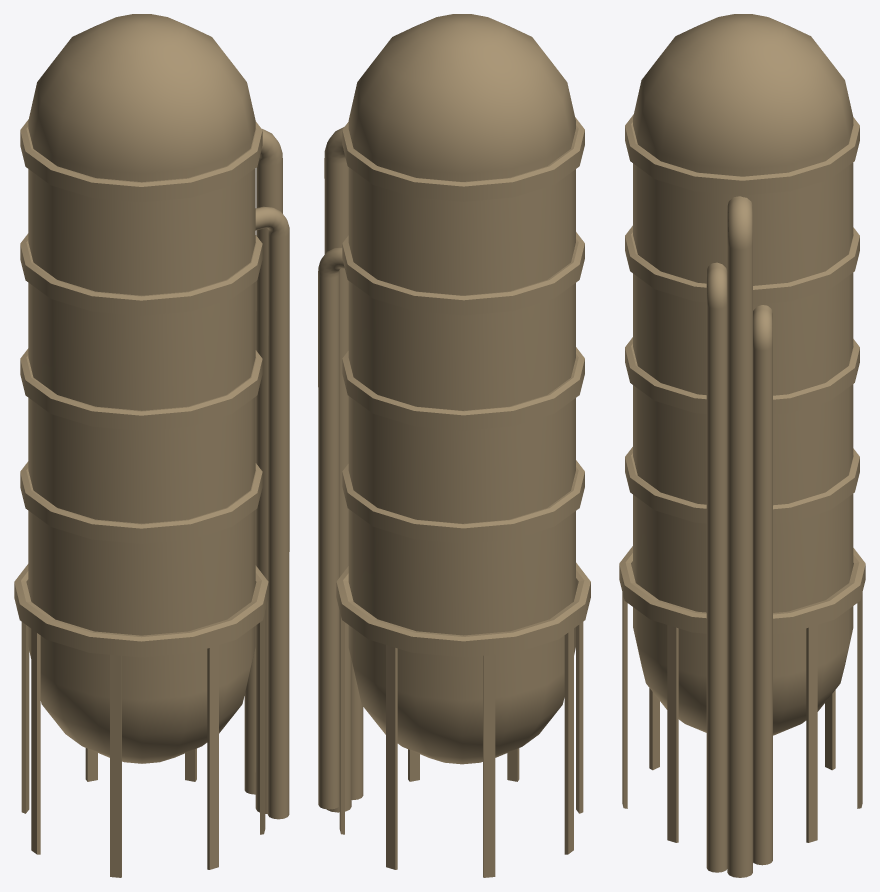
Rendered from DamPropTankUp2.fbx.
The picture shows the model from 3 angles, left to right: view 1: azimuth 30°, elevation 25°; view 2: azimuth 150°, elevation 25°; view 3: azimuth 270°, elevation 25°; orthographic projection. The views are drawn at different scales.
Visible parts, largest first — view 1: TankUpTwo; view 2: TankUpTwo; view 3: TankUpTwo.
Part boxes in pixels (x1,y1,x2,y2): TankUpTwo: (14,14,289,877); TankUpTwo: (318,14,590,877); TankUpTwo: (619,14,865,877).
Size of the model in its own units: 4.66 by 14.69 by 4.16.
